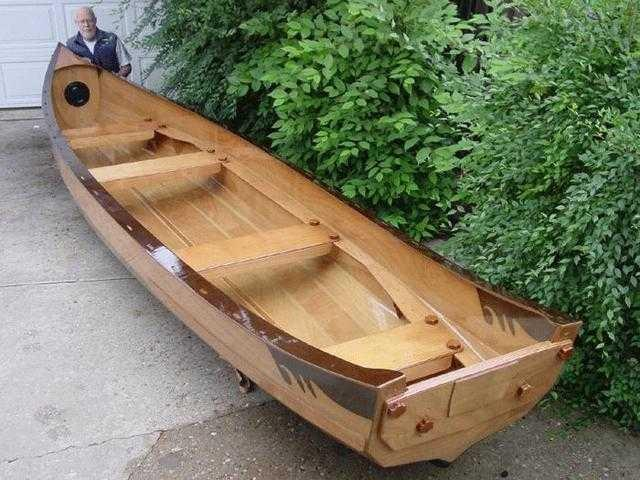kayak: (42, 49, 581, 475)
